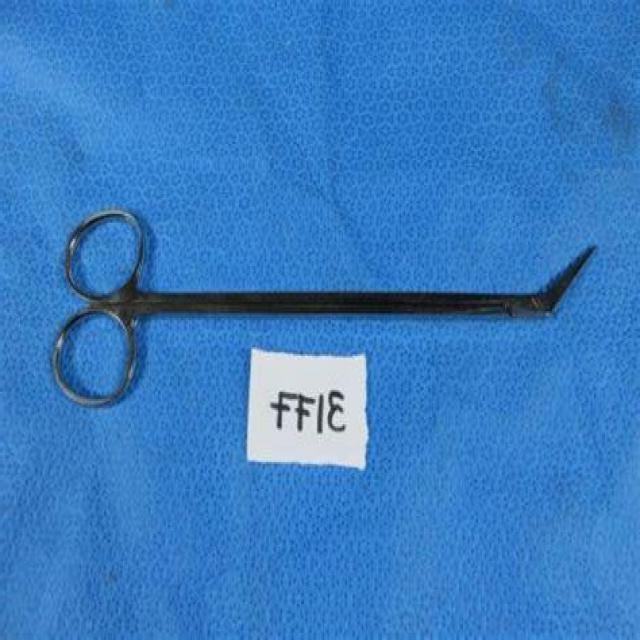Potts: (45, 198, 600, 416)
